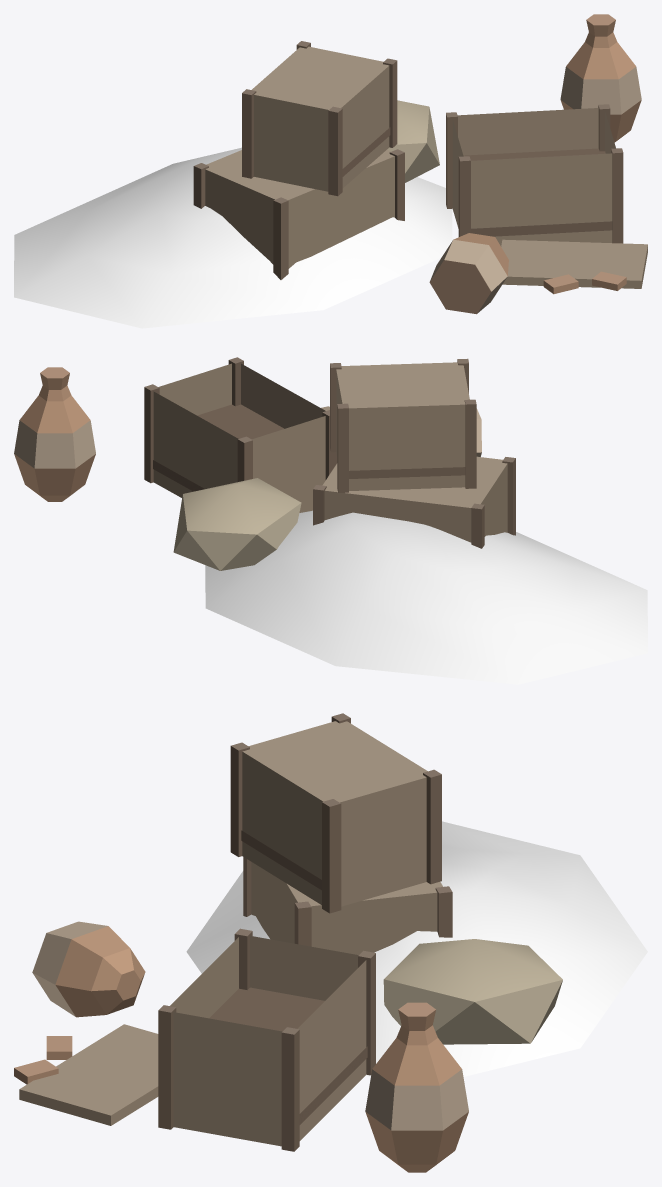
The model's file is caravana_cajas_ligero.glb.
The picture shows the model from 3 angles, top to bottom: view 1: azimuth 30°, elevation 25°; view 2: azimuth 150°, elevation 25°; view 3: azimuth 270°, elevation 25°; orthographic projection. The views are drawn at different scales.
Parts seen in each view (by area): view 1: caravana_cajas, caravana_cajas_arena; view 2: caravana_cajas, caravana_cajas_arena; view 3: caravana_cajas, caravana_cajas_arena.
Boxes of the visible parts, x1=… form: caravana_cajas: x1=193, y1=14, x2=647, y2=314; caravana_cajas_arena: x1=14, y1=147, x2=452, y2=328; caravana_cajas: x1=14, y1=357, x2=515, y2=570; caravana_cajas_arena: x1=205, y1=510, x2=647, y2=684; caravana_cajas: x1=14, y1=713, x2=562, y2=1172; caravana_cajas_arena: x1=186, y1=821, x2=647, y2=1076.
Size of the model in its own units: 3.94 by 1.13 by 2.75.
